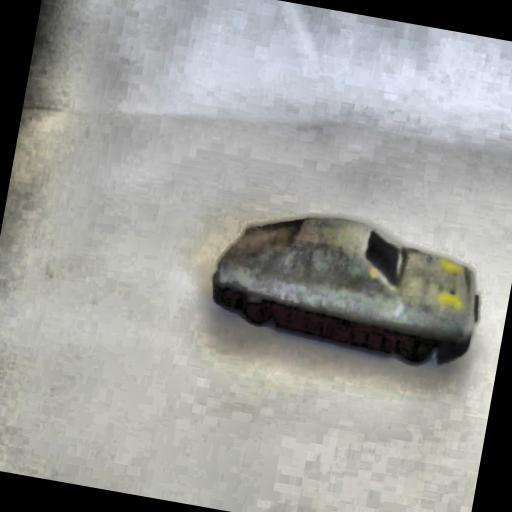normal_car: (200, 193, 495, 376)
